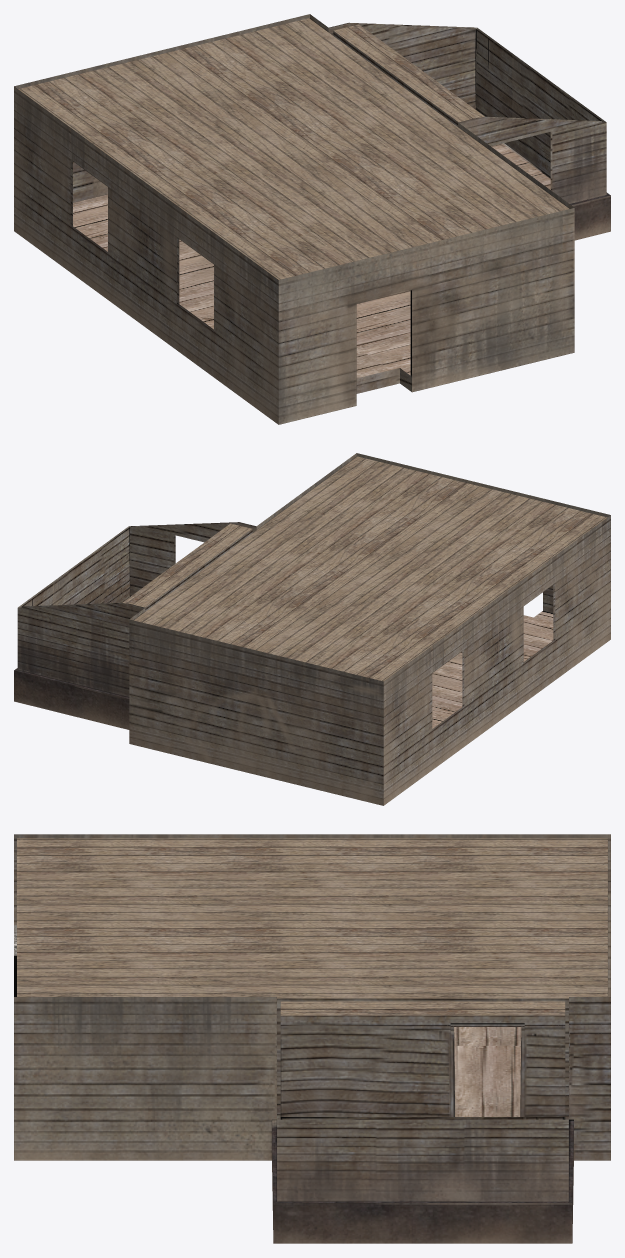
3 views of the same model, one above another, from view 1: azimuth 30°, elevation 25°; view 2: azimuth 150°, elevation 25°; view 3: azimuth 270°, elevation 25° (orthographic). The views are drawn at different scales.
Visible parts, largest first — view 1: Object_4; view 2: Object_4; view 3: Object_4.
Boxes of the visible parts, x1,y1,x2,y2 form: Object_4: (14,14,610,424); Object_4: (14,453,610,805); Object_4: (14,834,610,1243).
Bounding box in the file's own units: 8.96 × 2.77 × 9.18.
1 material, 1 textured.
